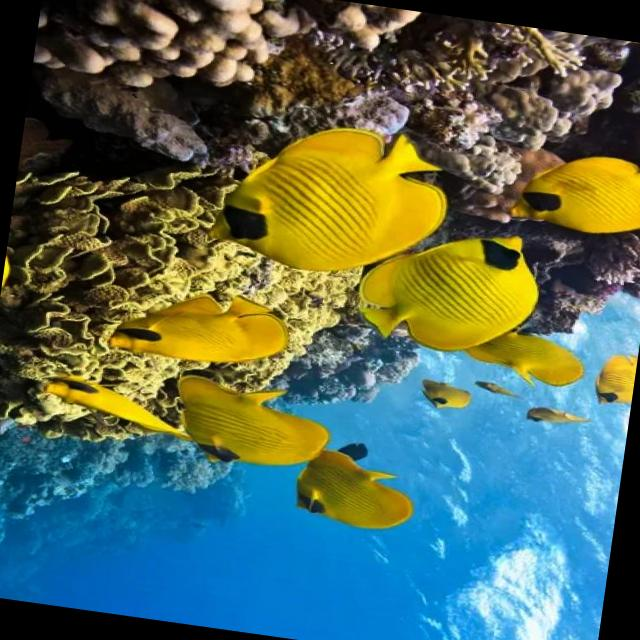ButterflyFish: (190, 104, 460, 293), (354, 207, 550, 362), (114, 280, 318, 390), (158, 365, 333, 493), (492, 103, 640, 251), (287, 421, 434, 554), (18, 366, 205, 454), (462, 302, 592, 399), (520, 392, 594, 448), (589, 334, 635, 414), (411, 370, 473, 415), (462, 378, 512, 419)
